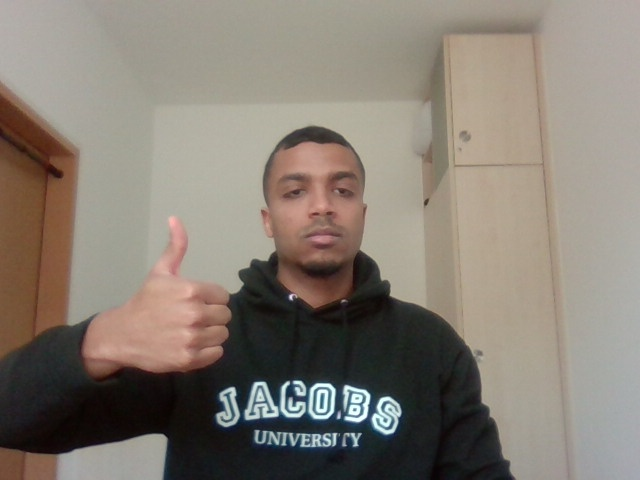perfect: (110, 199, 242, 395)
